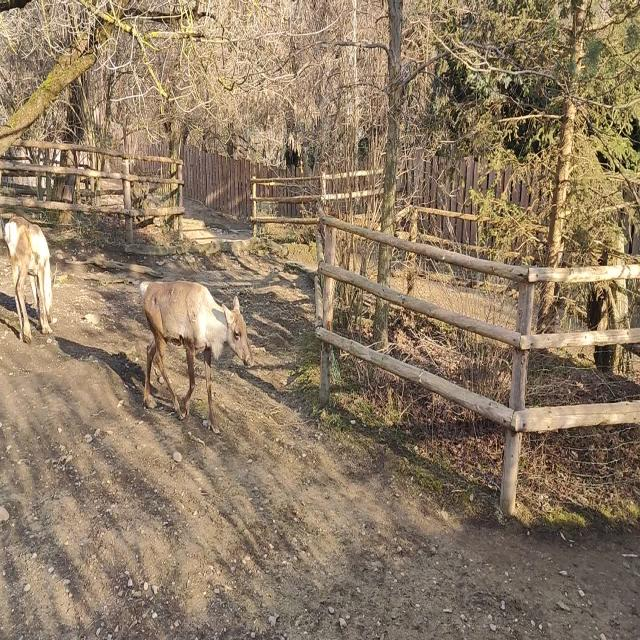deer: (139, 281, 254, 434), (4, 216, 53, 346)
